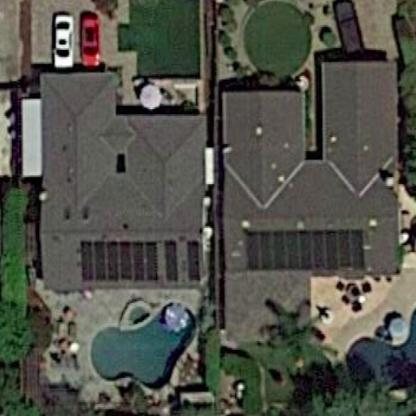car: (327, 2, 371, 56), (45, 6, 77, 74), (75, 3, 102, 76)
solar_panel: (73, 233, 205, 290), (242, 221, 374, 276)
swimming_pool: (93, 288, 209, 398), (335, 306, 415, 416)
